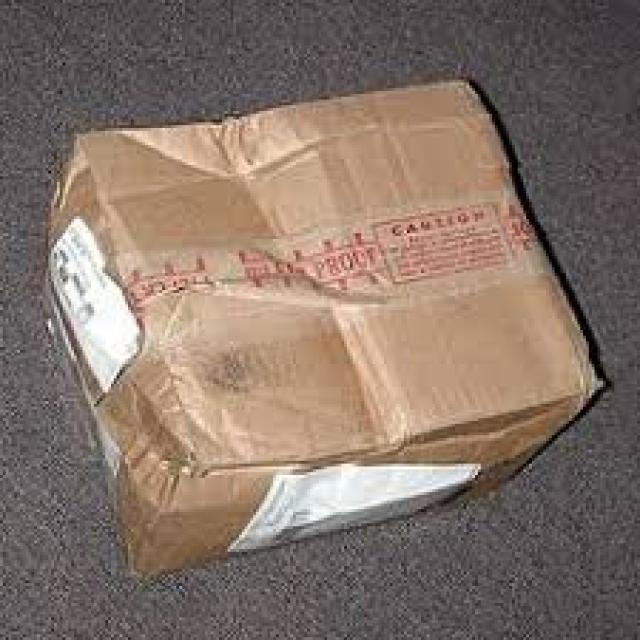box: (39, 80, 606, 576)
crushed: (262, 202, 405, 454), (130, 101, 320, 183), (101, 377, 214, 501), (46, 126, 116, 259)
